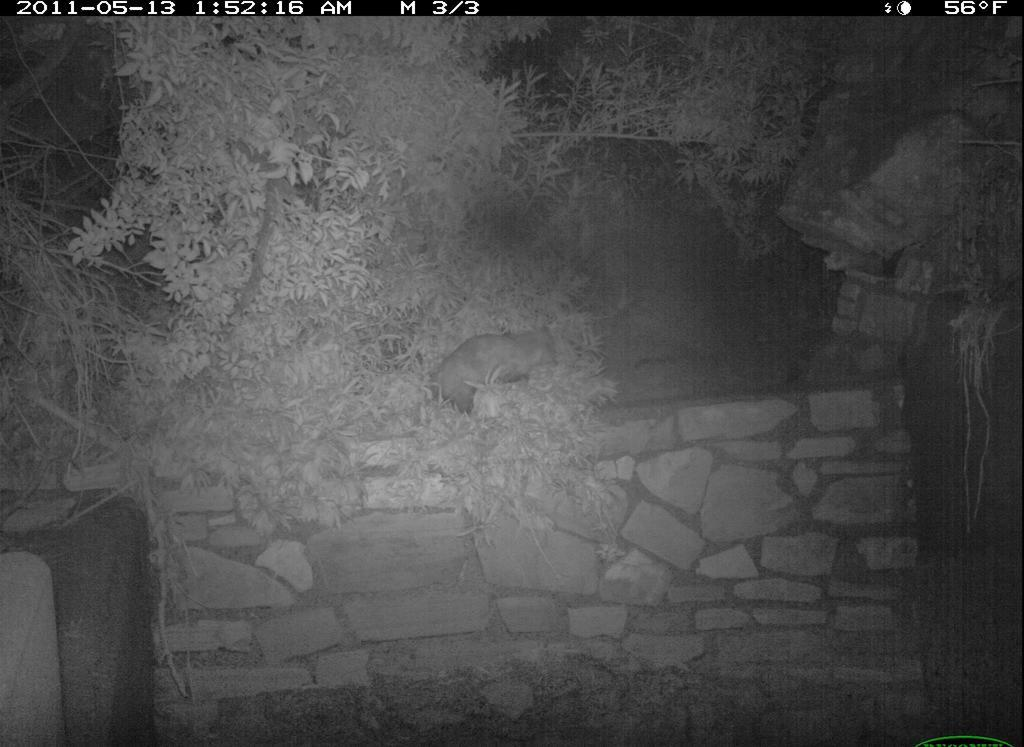opossum: (429, 308, 569, 442)
